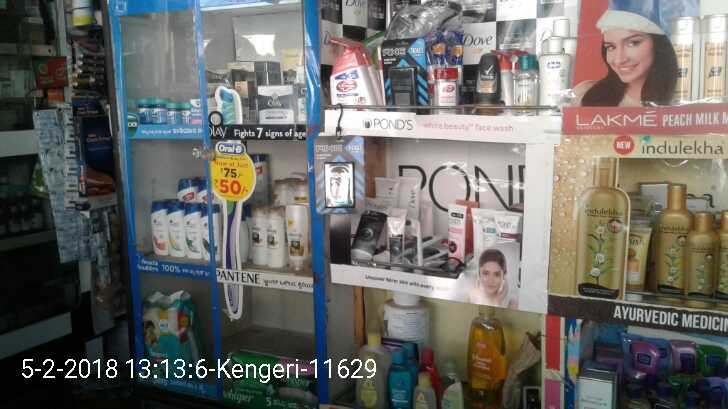beauty: (282, 202, 309, 273), (258, 84, 294, 126), (262, 208, 282, 267), (149, 200, 169, 259), (184, 202, 202, 259), (203, 205, 221, 261), (169, 198, 185, 259), (248, 205, 263, 266)
pharmacy: (140, 283, 195, 379), (133, 99, 152, 126), (150, 98, 165, 126), (179, 100, 191, 125), (166, 101, 176, 124)
